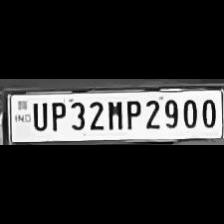0: (180, 96, 198, 128), (199, 96, 217, 128)
2: (86, 98, 104, 132), (142, 96, 160, 130)
3: (67, 98, 85, 132)
9: (161, 96, 179, 130)
M: (105, 98, 123, 130)
P: (47, 99, 66, 131), (123, 97, 141, 130)
U: (28, 99, 48, 131)
